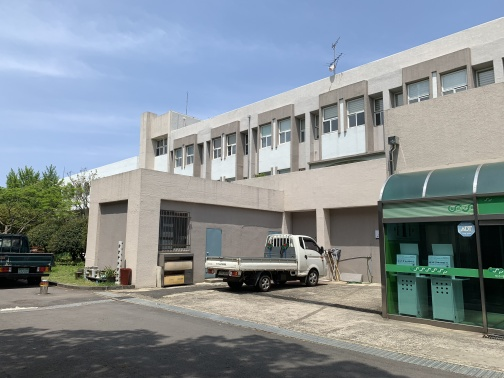Ara Hall: (365, 147, 502, 341)
